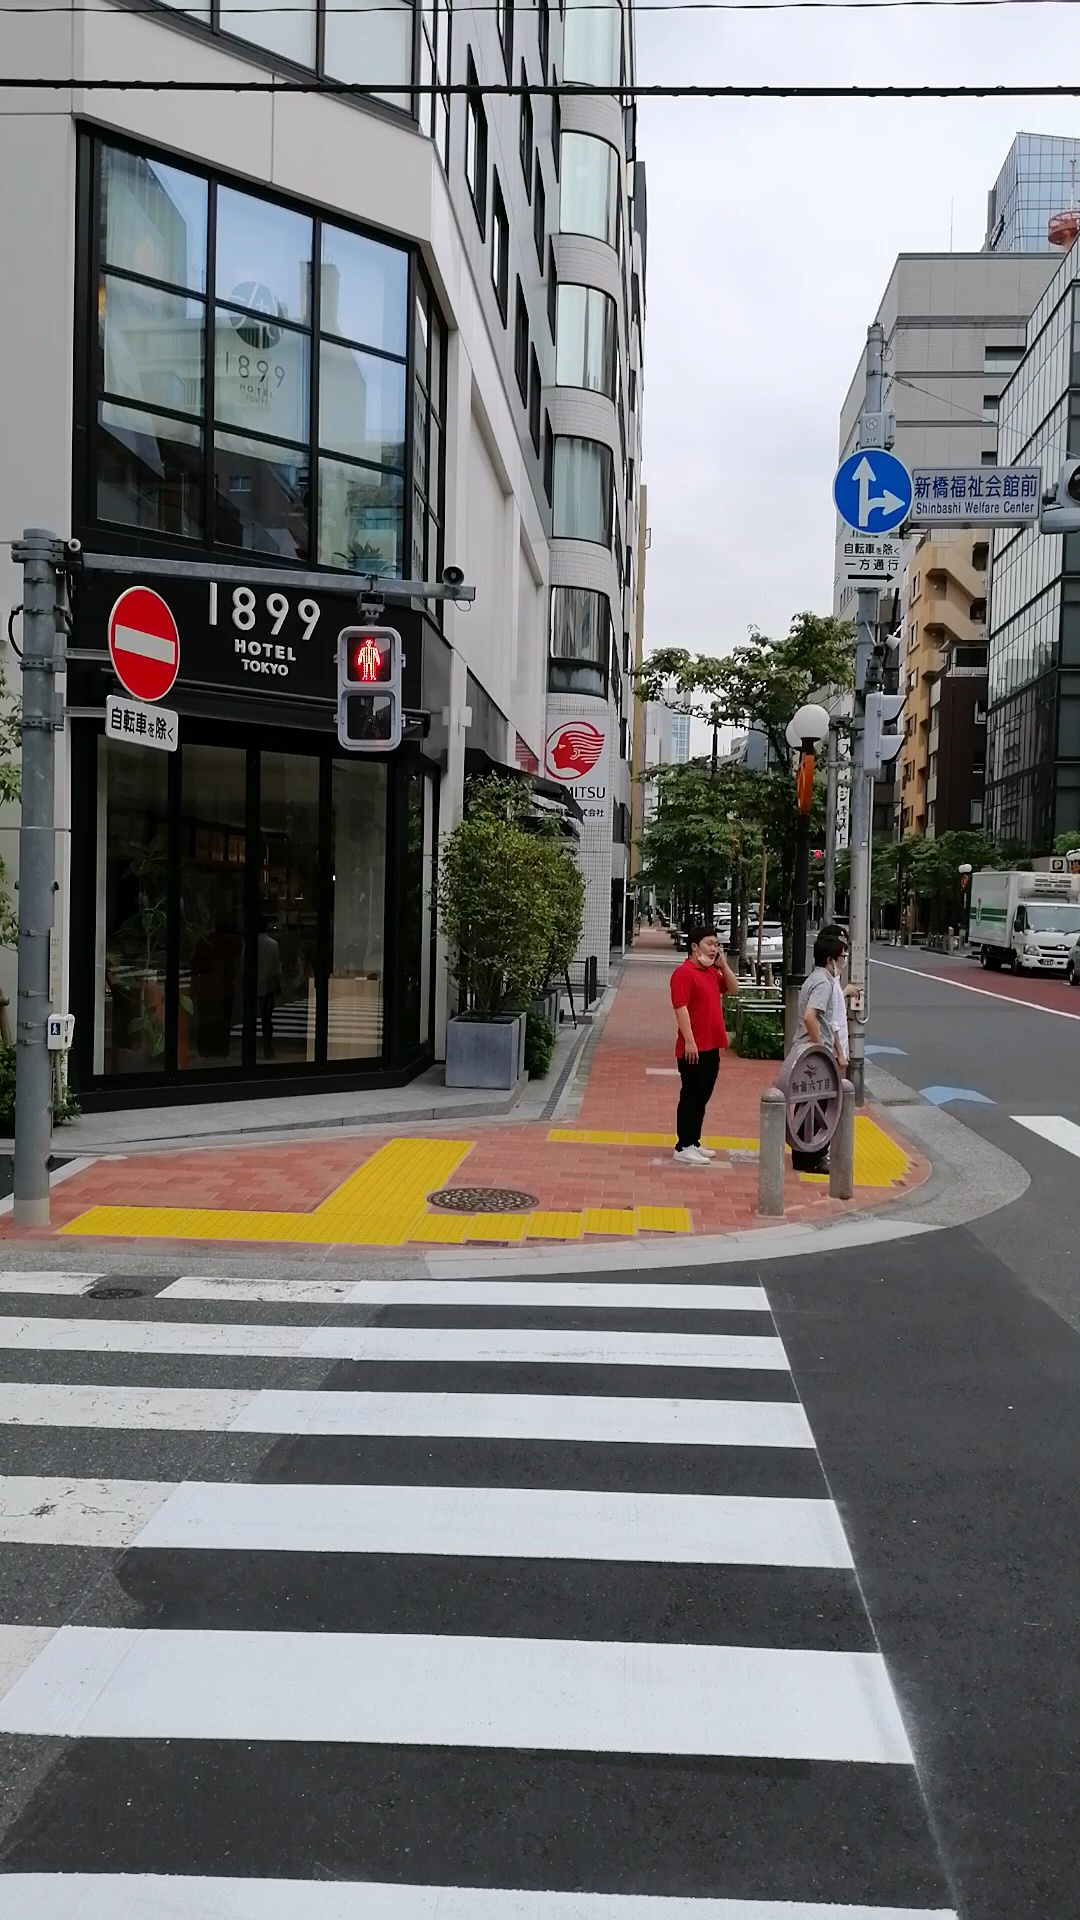red: (338, 625, 405, 752)
